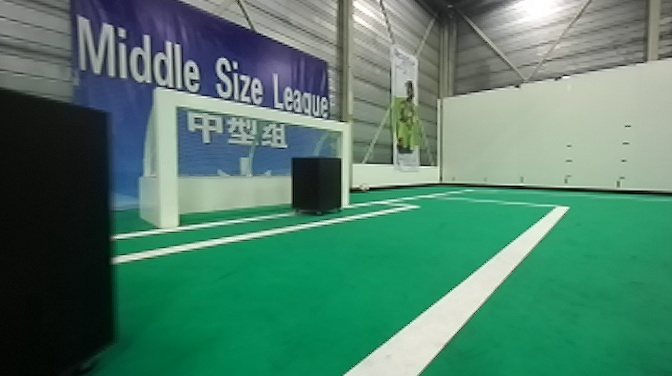ball: (357, 181, 375, 192)
goalpost: (149, 83, 183, 232), (338, 120, 351, 207)
